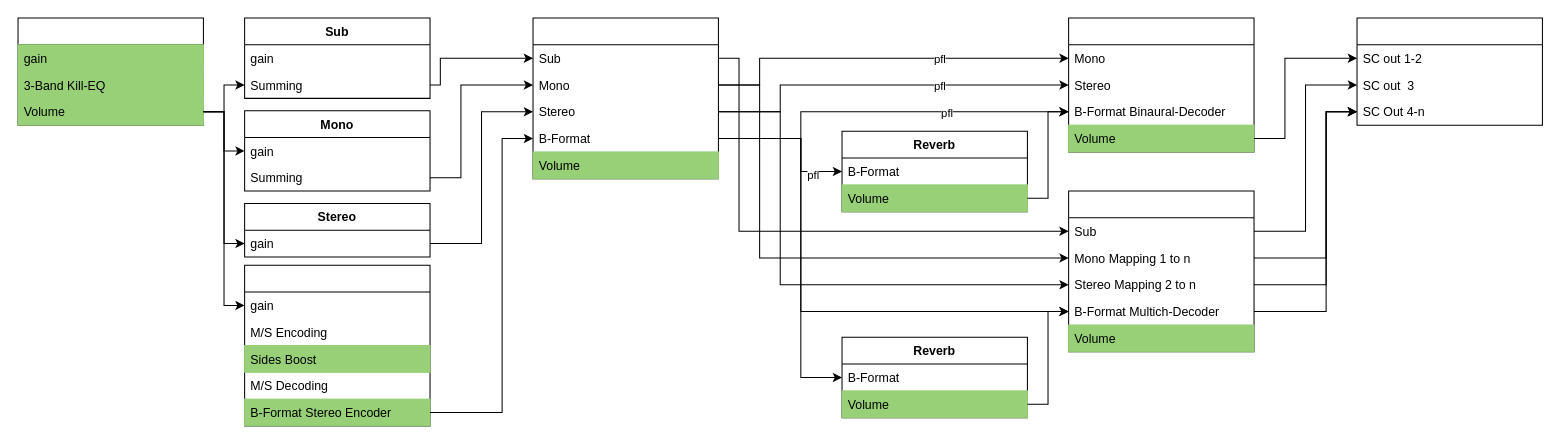
The diagram is 1560 pixels wide and 447 high, and some of its shapes have lost their labels. The box of each missing label's shape, as (x1, y1, x2, y2) in pixels:
Ambisonic: (244, 264, 430, 426)
Channelbus 1-4: (532, 17, 718, 179)
Inputchannel (Stereo): (17, 17, 203, 125)
Mainbus: (1068, 190, 1254, 352)
Masterbus: (1356, 17, 1542, 125)
Phonesbus: (1068, 17, 1254, 152)
